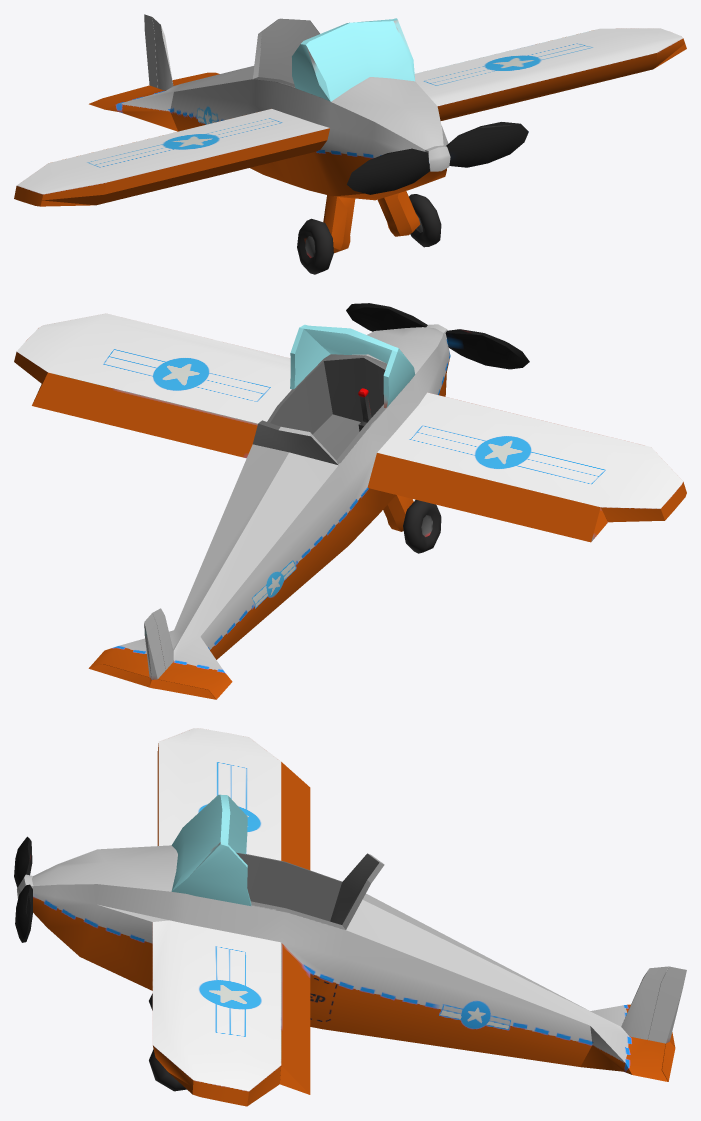
The model's file is airplane2.glb.
3 renders of one model, top to bottom at view 1: azimuth 30°, elevation 25°; view 2: azimuth 150°, elevation 25°; view 3: azimuth 270°, elevation 25°, orthographic. The views are drawn at different scales.
Visible parts, largest first — view 1: Chassis.001, Windshield.001, Propellor.001, Wheels.R, Wheels.L, Rudder.001; view 2: Chassis.001, Right_Aileron.001, Left_Aileron.001, Windshield.001, Propellor.001, Wheels.R, Elevator.001, Rudder.001; view 3: Chassis.001, Windshield.001, Left_Aileron.001, Right_Aileron.001, Rudder.001, Propellor.001.
Part boxes in pixels (<box>): Chassis.001: <box>14,17,686,253</box>; Windshield.001: <box>292,18,415,101</box>; Propellor.001: <box>347,122,528,194</box>; Wheels.R: <box>297,218,333,274</box>; Wheels.L: <box>409,194,441,247</box>; Rudder.001: <box>144,14,157,87</box>; Chassis.001: <box>14,313,686,699</box>; Right_Aileron.001: <box>367,453,607,542</box>; Left_Aileron.001: <box>32,372,257,458</box>; Windshield.001: <box>290,324,415,407</box>; Propellor.001: <box>346,303,529,369</box>; Wheels.R: <box>403,500,441,553</box>; Elevator.001: <box>89,664,215,699</box>; Rudder.001: <box>144,613,165,679</box>; Chassis.001: <box>17,728,668,1106</box>; Windshield.001: <box>171,794,251,905</box>; Left_Aileron.001: <box>280,943,310,1094</box>; Right_Aileron.001: <box>281,762,310,869</box>; Rudder.001: <box>648,966,686,1043</box>; Propellor.001: <box>14,836,32,942</box>.
Bounding box in the file's own units: 1455 × 486 × 1157.
1 material, 1 textured.
